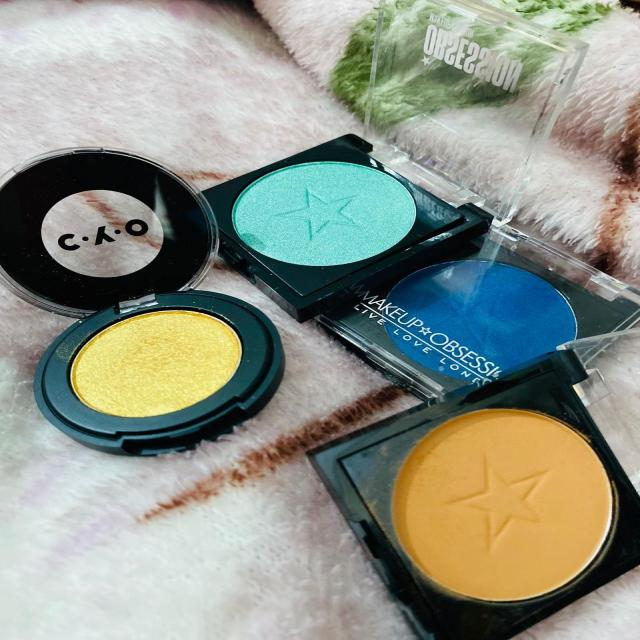eye shade: (362, 255, 592, 382), (72, 292, 254, 428), (221, 147, 425, 266)
powder: (367, 402, 633, 596)
